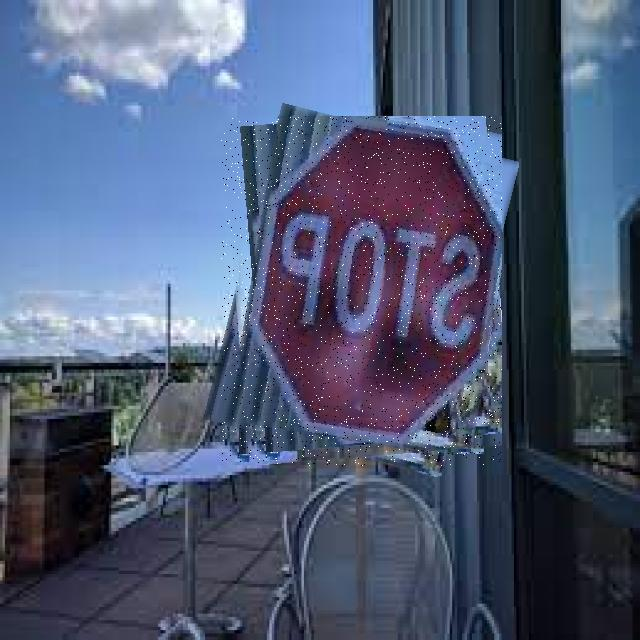stop: (221, 116, 502, 466)
